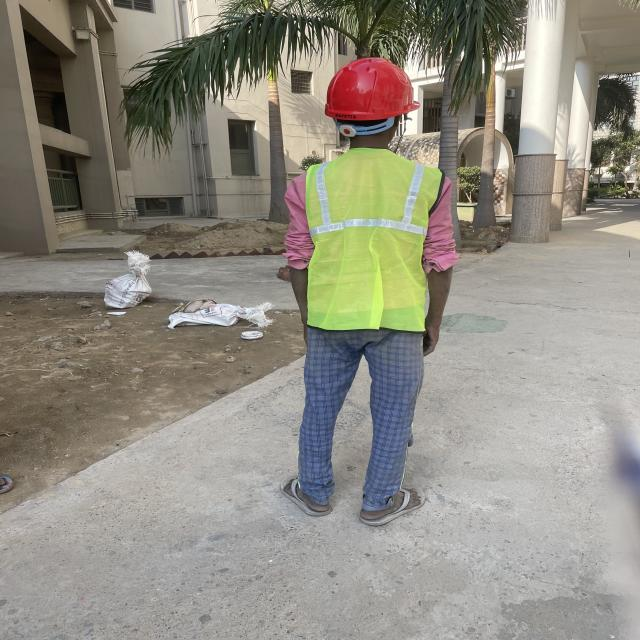safe: (279, 58, 458, 525)
